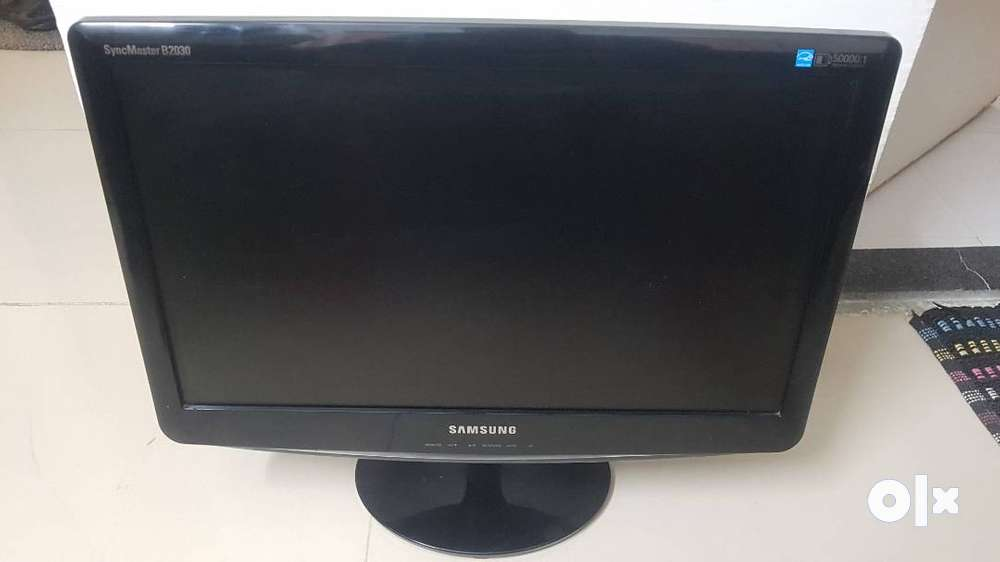samsung-monitor-b2030: (72, 21, 897, 548)
